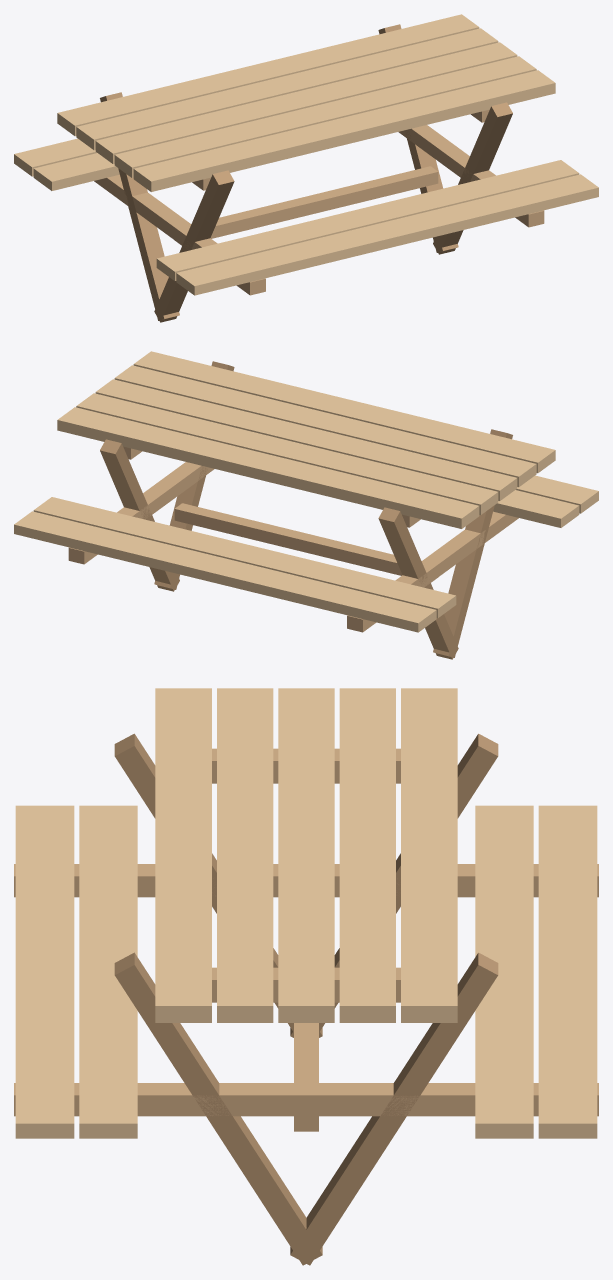
Rendered from th3_picknick.glb.
3 views of the same model, one above another, from view 1: azimuth 30°, elevation 25°; view 2: azimuth 150°, elevation 25°; view 3: azimuth 270°, elevation 25° (orthographic). The views are drawn at different scales.
Visible parts, largest first — view 1: Picknicktisch; view 2: Picknicktisch; view 3: Picknicktisch.
Part boxes in pixels (left/top/right/bottom): Picknicktisch: left=14, top=14, right=598, bottom=322; Picknicktisch: left=14, top=351, right=598, bottom=659; Picknicktisch: left=14, top=688, right=598, bottom=1265.
Size of the model in its own units: 1.8 by 0.7998 by 1.4.
